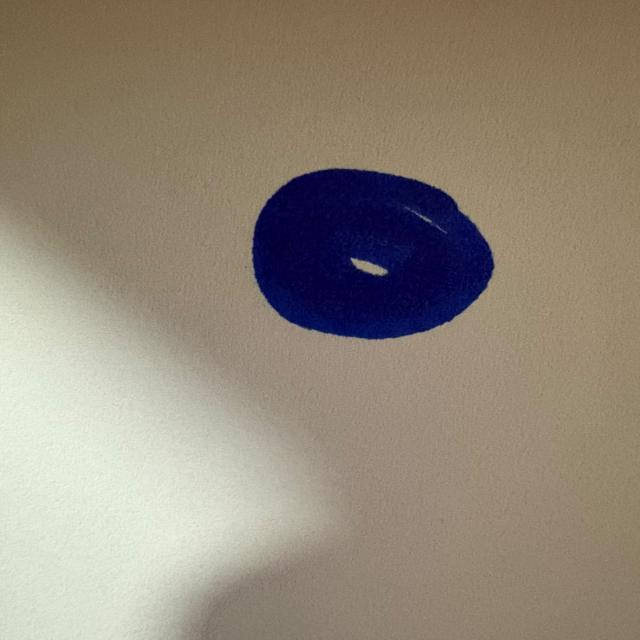Circle: (249, 164, 500, 346)
